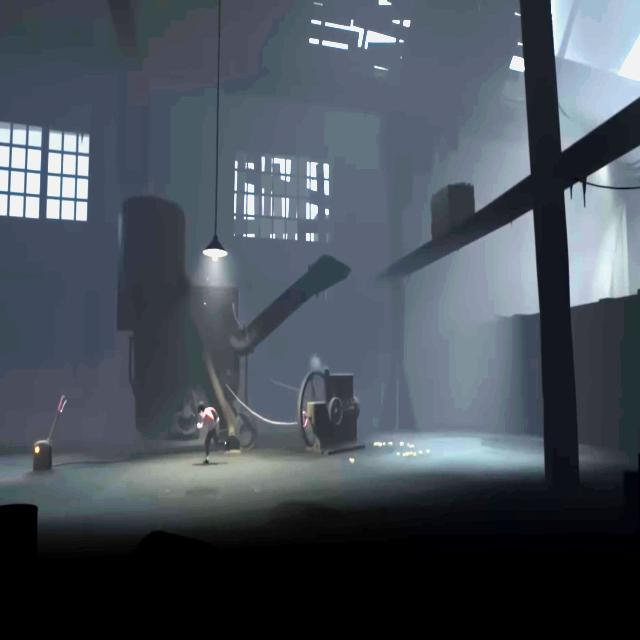boy: (196, 402, 227, 465)
